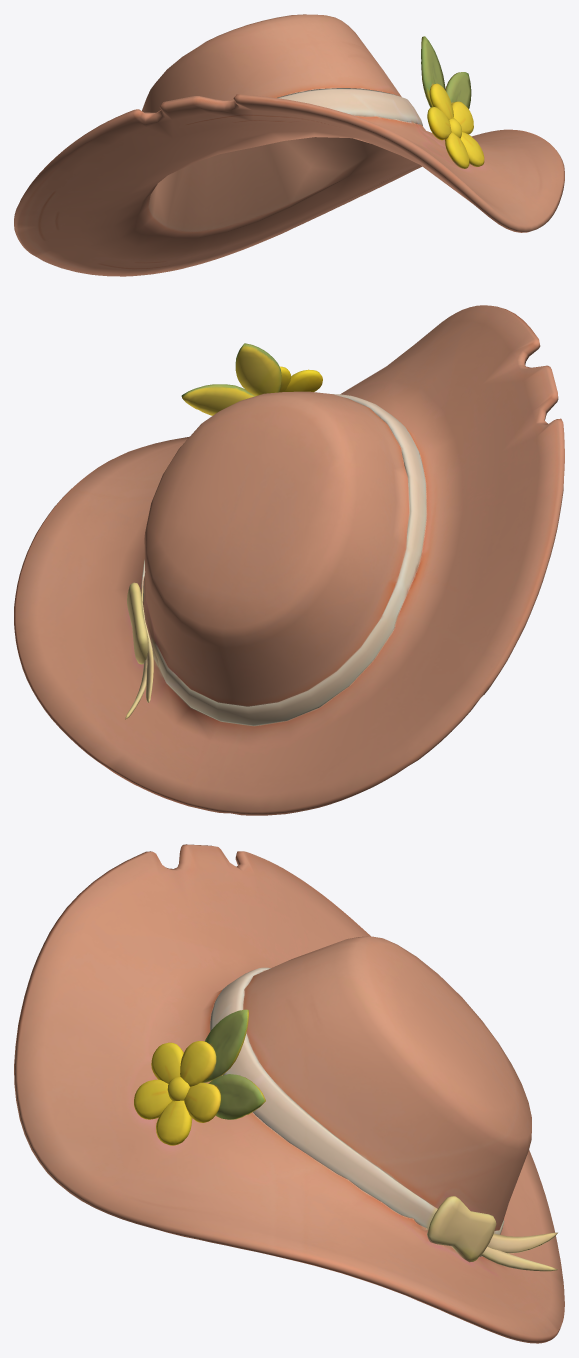
The model's file is naia-head-hat.fbx.
The picture shows the model from 3 angles, top to bottom: view 1: azimuth 30°, elevation 25°; view 2: azimuth 150°, elevation 25°; view 3: azimuth 270°, elevation 25°; orthographic projection. The views are drawn at different scales.
Parts seen in each view (by area): view 1: tripo_node_2a91157e-e3a8-4c77-b7b6-620c9291212f; view 2: tripo_node_2a91157e-e3a8-4c77-b7b6-620c9291212f; view 3: tripo_node_2a91157e-e3a8-4c77-b7b6-620c9291212f.
Boxes of the visible parts, <box> form: tripo_node_2a91157e-e3a8-4c77-b7b6-620c9291212f: <box>14,14,564,276</box>; tripo_node_2a91157e-e3a8-4c77-b7b6-620c9291212f: <box>14,305,564,815</box>; tripo_node_2a91157e-e3a8-4c77-b7b6-620c9291212f: <box>14,844,564,1343</box>.
Bounding box in the file's own units: 0.9995 × 0.6812 × 0.895.
Materials: 1 (1 with a texture image).
